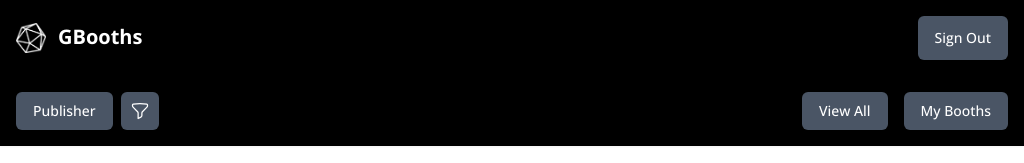
Test case: Header › toggles the publisher/location button label when clicked
Click the button "Publisher": (64, 111) [16, 92, 113, 130]
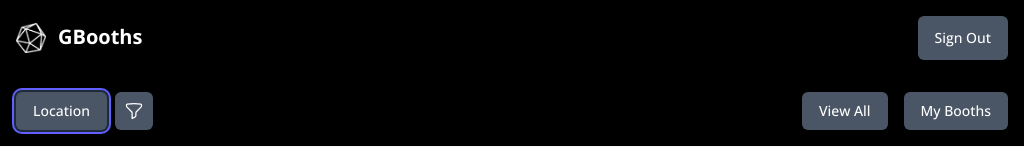
Now the button "Location" is shown, box [16, 92, 107, 130]
